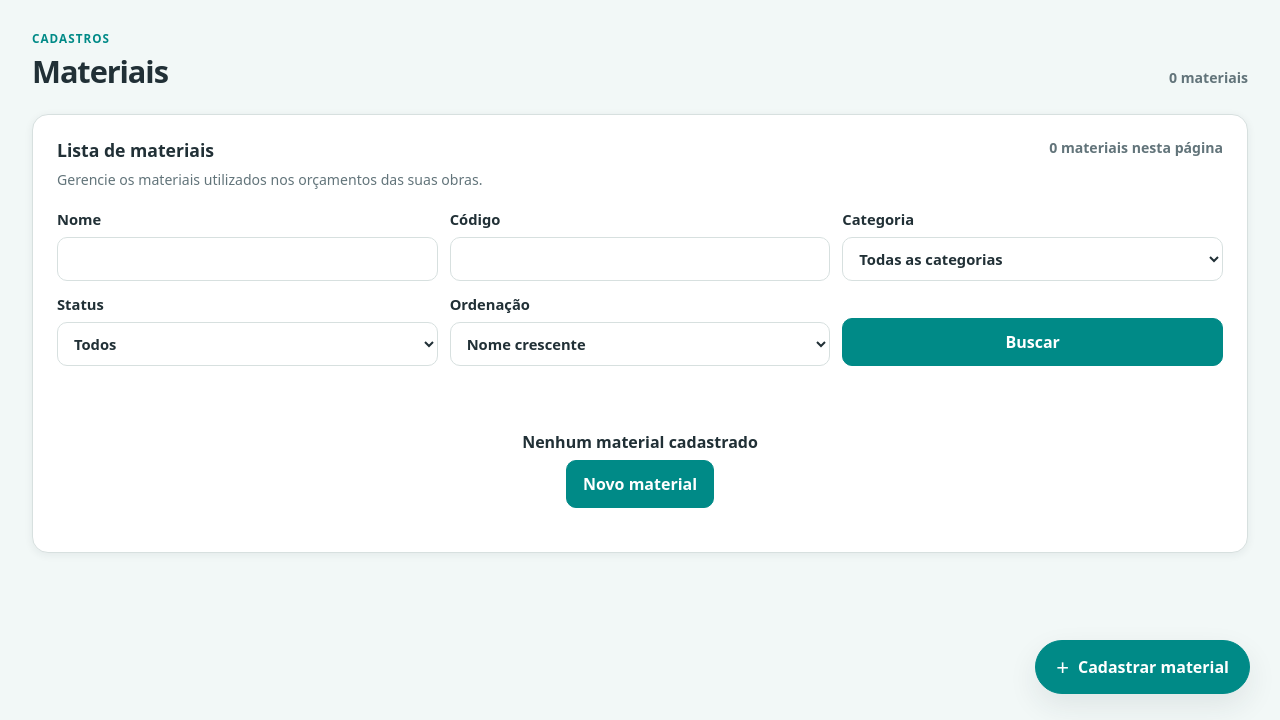
Test: MaterialListPage › applies combined filters on the server and distinguishes no results
expect the heading "Nenhum material cadastrado" is shown: met, box [522,431,758,453]
In the search field labelled "Nome": (247, 259) [57,237,438,281], type "Cimento"
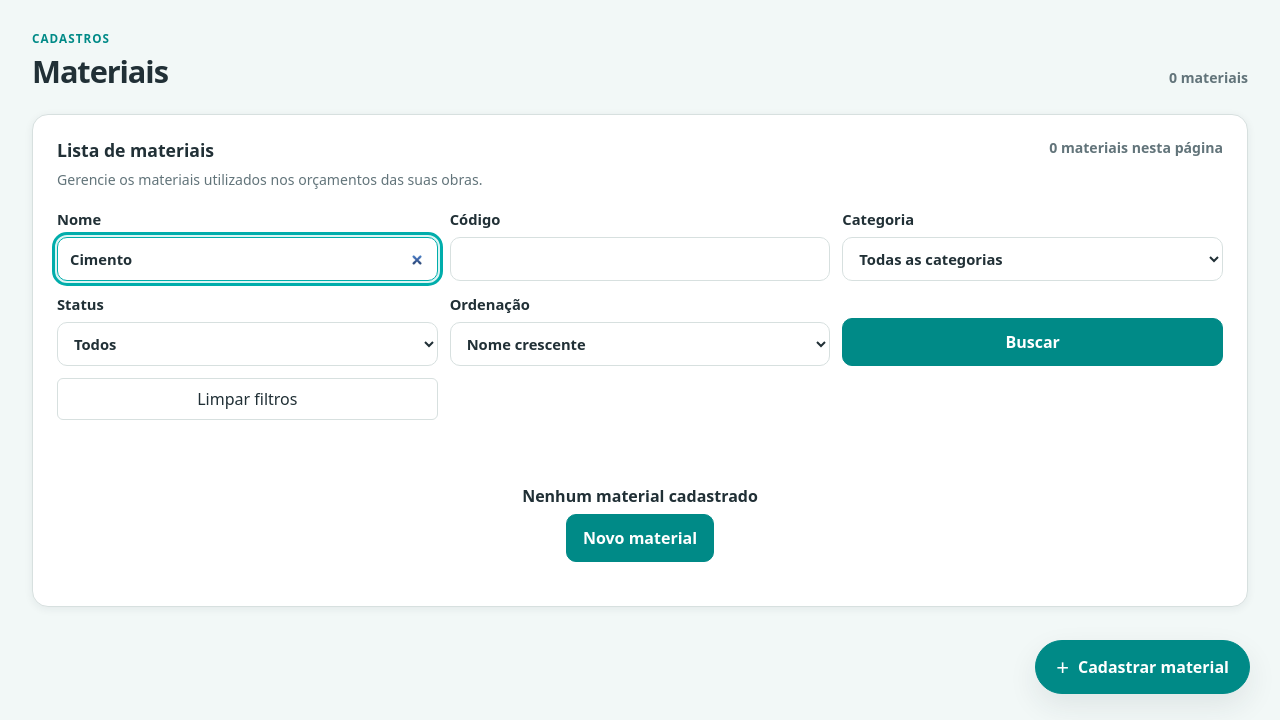
In the search field labelled "Código": (640, 259) [450,237,830,281], type "MAT"
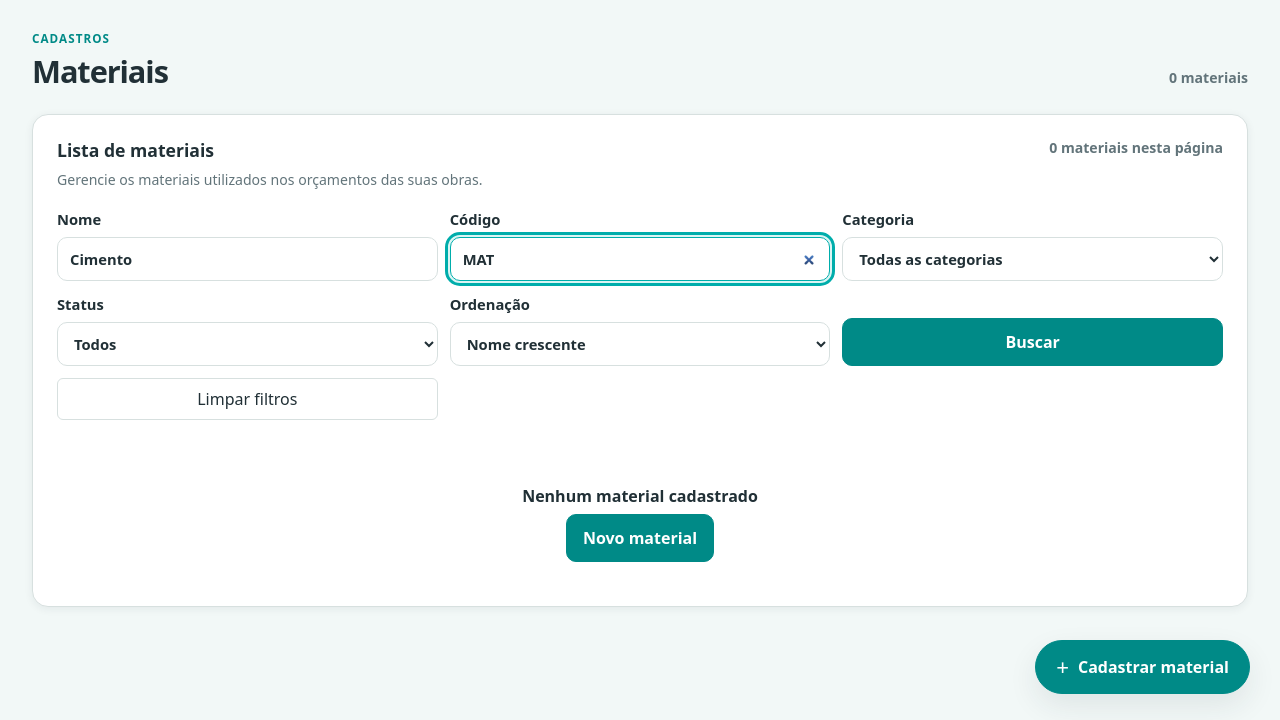
Select "Inativos" in the dropdown labelled "Status": (247, 344) [57,322,438,366]
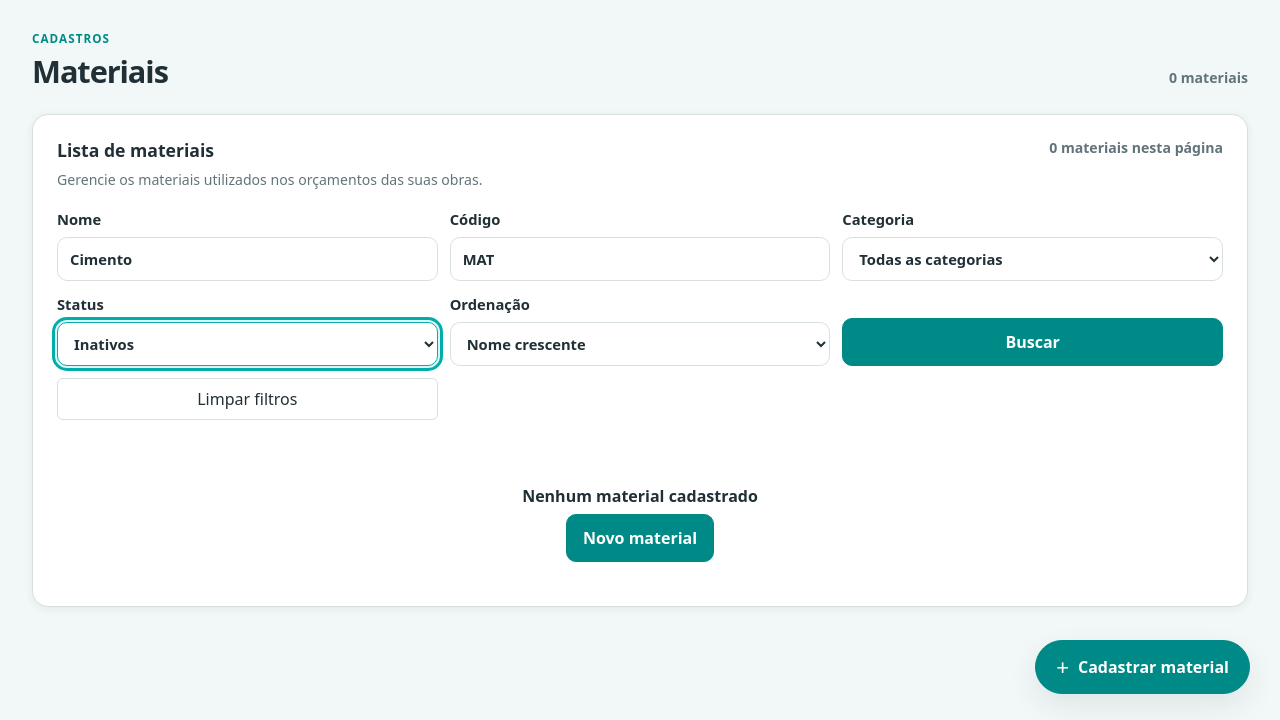
Click the button "Buscar": (1033, 342) [842,318,1223,366]
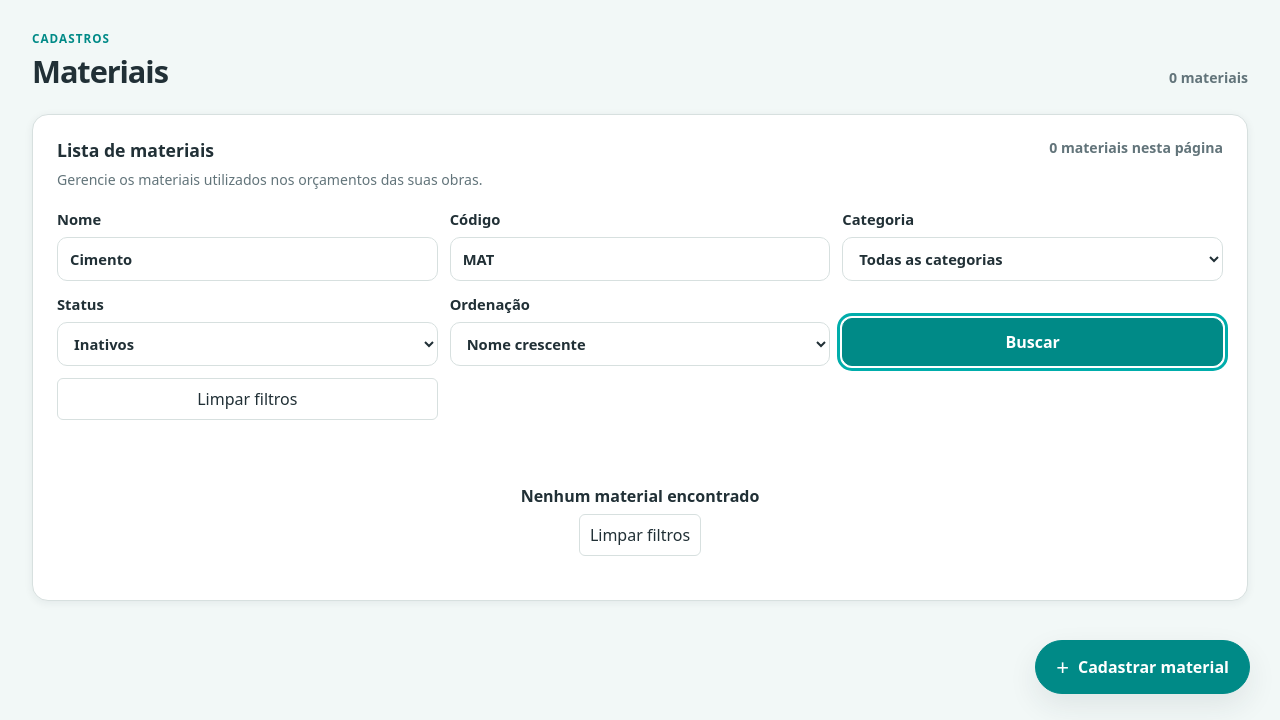
expect the heading "Nenhum material encontrado" is shown: met, box [521,485,759,507]
